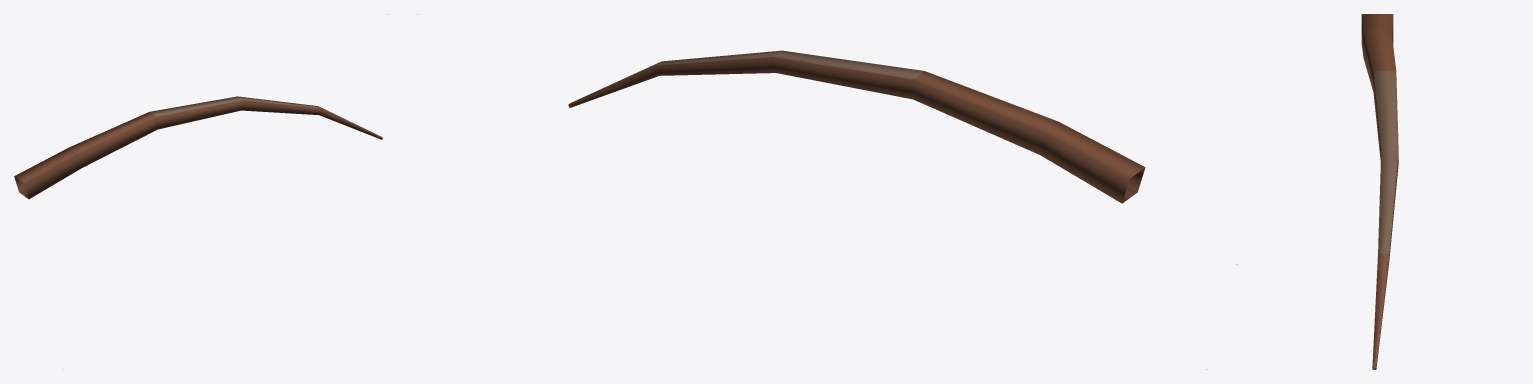
The model's file is CedarBough_bark.glb.
3 renders of one model, left to right at view 1: azimuth 30°, elevation 25°; view 2: azimuth 150°, elevation 25°; view 3: azimuth 270°, elevation 25°, orthographic. The views are drawn at different scales.
Visible parts, largest first — view 1: CedarBough_bark; view 2: CedarBough_bark; view 3: CedarBough_bark.
Boxes of the visible parts, x1=… form: CedarBough_bark: x1=14, y1=14, x2=388, y2=369; CedarBough_bark: x1=417, y1=14, x2=1207, y2=369; CedarBough_bark: x1=1236, y1=14, x2=1398, y2=369.
Size of the model in its own units: 12.31 by 5.4 by 4.58.
